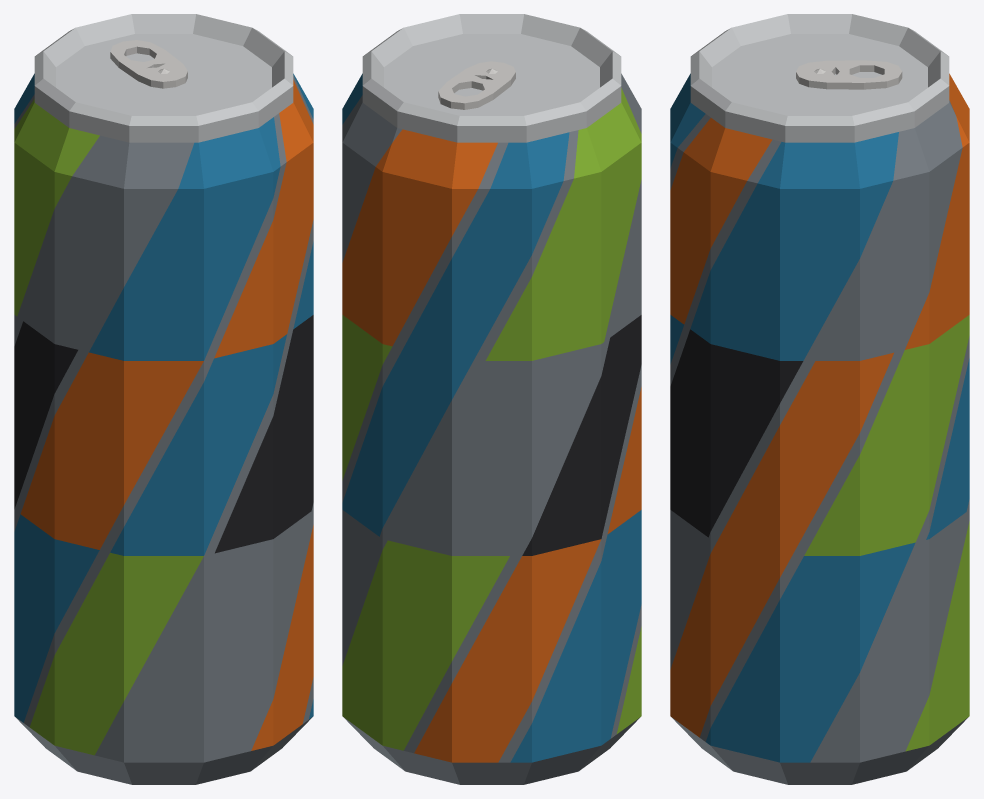
The model's file is energy-drink-can-c47bcf.glb.
3 views of the same model, side by side, from view 1: azimuth 30°, elevation 25°; view 2: azimuth 150°, elevation 25°; view 3: azimuth 270°, elevation 25° (orthographic).
Visible parts, largest first — view 1: can-body, tab-plate; view 2: can-body, tab-plate; view 3: can-body, tab-plate.
Part boxes in pixels (left/top/right/bottom): can-body: left=14, top=14, right=313, bottom=784; tab-plate: left=110, top=40, right=187, bottom=88; can-body: left=342, top=14, right=641, bottom=784; tab-plate: left=438, top=61, right=515, bottom=109; can-body: left=670, top=14, right=969, bottom=784; tab-plate: left=796, top=60, right=902, bottom=89.
Size of the model in its own units: 0.0647 by 0.16 by 0.0647.
